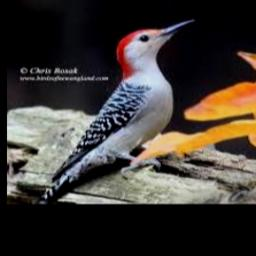Woodpecker: (33, 18, 195, 204)
